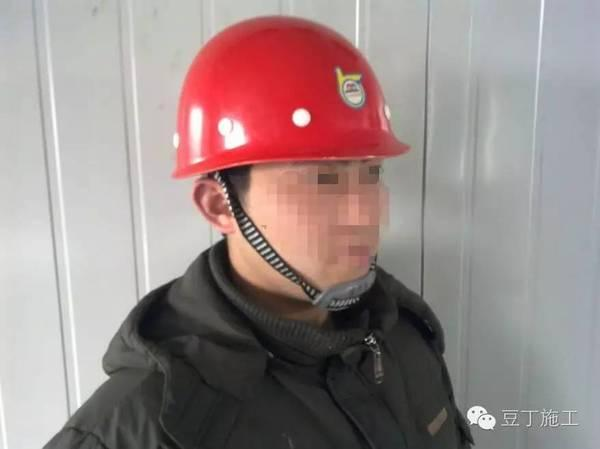helmet: (167, 13, 412, 183)
